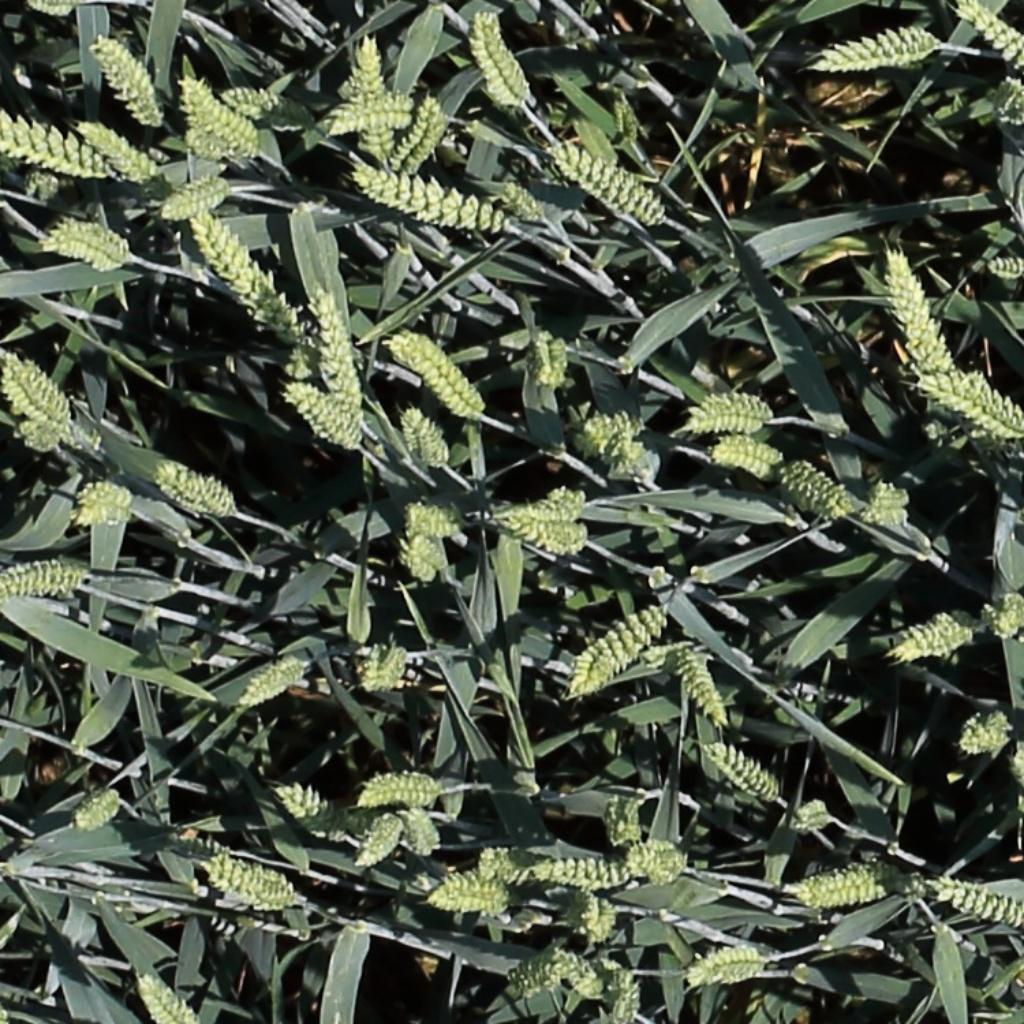0-0: (188, 206, 304, 344), (561, 608, 662, 704), (357, 167, 507, 229), (551, 141, 664, 221), (887, 247, 954, 379), (2, 352, 99, 442), (0, 103, 110, 174), (394, 330, 484, 416), (91, 30, 163, 128), (315, 296, 364, 435), (473, 8, 535, 114), (180, 73, 259, 154), (804, 28, 936, 76), (357, 25, 402, 160), (42, 217, 137, 276), (924, 375, 1015, 436), (285, 380, 363, 450), (422, 860, 517, 917), (0, 547, 98, 598), (679, 644, 733, 735), (497, 502, 597, 551), (79, 117, 159, 178), (389, 91, 446, 176), (705, 744, 783, 804), (958, 0, 1024, 70), (509, 853, 626, 892), (495, 938, 577, 993), (582, 416, 652, 480), (277, 786, 352, 845), (787, 856, 881, 903), (692, 931, 776, 983), (688, 385, 781, 431), (562, 886, 629, 949), (62, 480, 137, 535), (892, 609, 972, 660), (933, 880, 1022, 925), (157, 464, 234, 516), (782, 462, 851, 517), (204, 854, 295, 895), (711, 433, 794, 477), (404, 402, 453, 473), (238, 659, 309, 707), (357, 766, 442, 806), (353, 640, 415, 693), (353, 812, 406, 873), (595, 789, 649, 847), (135, 969, 193, 1022), (624, 833, 688, 880), (223, 90, 312, 122), (868, 475, 915, 535), (156, 832, 250, 862), (159, 177, 229, 215), (578, 955, 632, 1004), (402, 800, 443, 864), (499, 176, 551, 222), (405, 529, 450, 582), (324, 103, 416, 128), (959, 712, 1015, 753), (75, 789, 122, 835), (532, 481, 586, 519), (610, 86, 643, 148), (536, 324, 566, 390), (401, 539, 442, 587), (993, 69, 1024, 126), (616, 962, 643, 1023), (406, 506, 461, 535), (993, 588, 1022, 641), (20, 422, 68, 449), (477, 845, 519, 875), (27, 1, 76, 15), (985, 258, 1024, 274)
